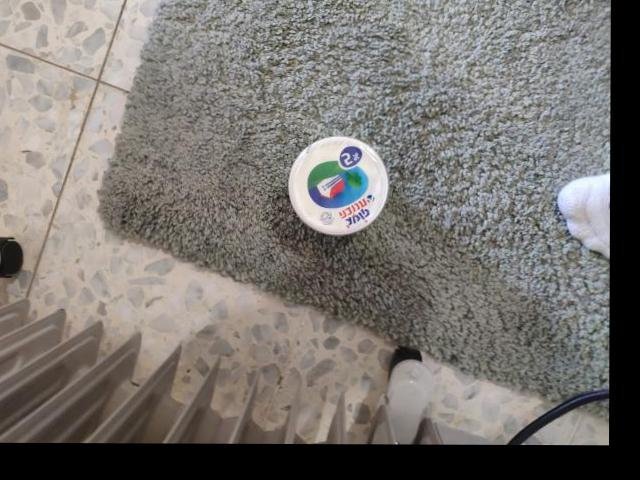cotage: (284, 134, 384, 237)
